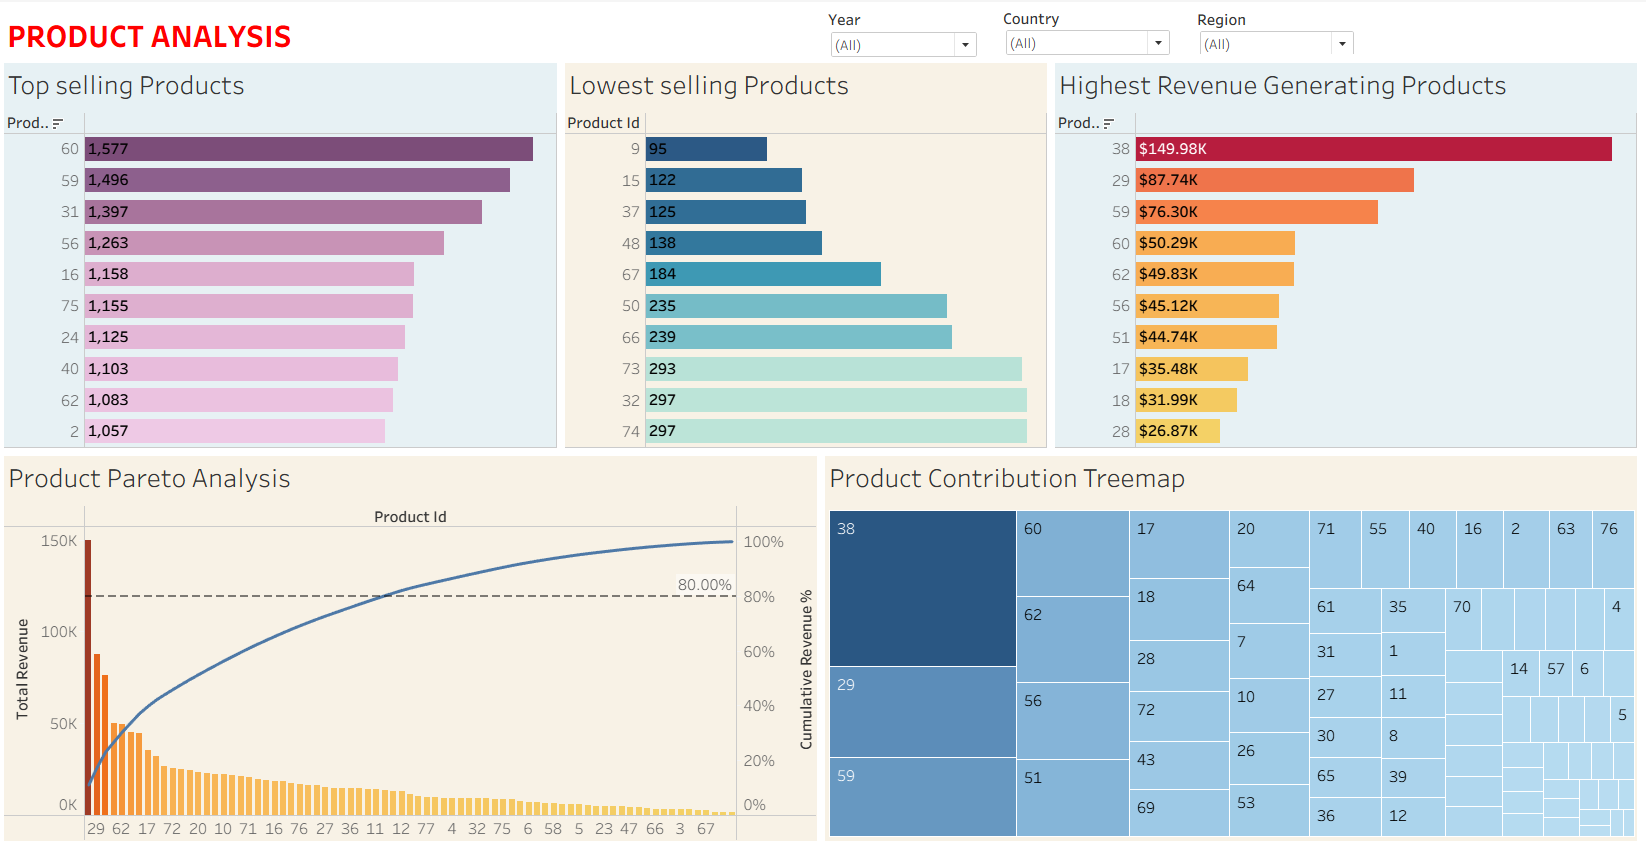

This screenshot's page, from the dashboard's own definition file:
{"tool":"tableau","page":{"name":"Product Analysis","canvas":[1000,1000],"units":"permille","ordinal":3},"visuals":[{"type":"filter","title":"Top selling Products","param":"[federated.0fuxvor0l2khf1164kcrc0bxxkrn].[none:ship_country:nk]","box":[610.1,7,102.6,56.4]},{"type":"filter","title":"Top selling Products","param":"[federated.0fuxvor0l2khf1164kcrc0bxxkrn].[yr:order_date:ok]","box":[504.5,8.2,91.7,57.6]},{"type":"filter","title":"Top selling Products","param":"[federated.0fuxvor0l2khf1164kcrc0bxxkrn].[none:ship_region:nk]","box":[727.2,8.2,96.6,52.9]},{"type":"title","box":[4.8,9.4,990.3,57.6]},{"type":"worksheet","title":"Top selling Products","mark":"Bar","rows":["product_id"],"cols":["quantity","quantity"],"box":[4.8,67,338.5,461.8]},{"type":"worksheet","title":"Lowest selling Products ","mark":"Bar","rows":["product_id"],"cols":["quantity","quantity"],"box":[343.4,67,295.7,461.8]},{"type":"worksheet","title":"Highest Revenue Generating Products ","mark":"Bar","rows":["product_id"],"cols":["vtsum","vtsum"],"box":[639.1,67,356.1,461.8]},{"type":"worksheet","title":"Product Pareto Analysis","mark":"Automatic","rows":["vtsum","Calculation_0175675493416960"],"cols":["product_id"],"box":[4.8,528.8,495.2,461.8]},{"type":"worksheet","title":"Product Contribution Treemap","mark":"Automatic","box":[500,528.8,495.2,461.8]}]}

Visuals, with their boxes on the dashboard's canvas, which has no fixed pixel size, in thousandths of its width and height (x1, y1, x2, y2). These are canvas units, not pixel positions in the 1646x850 screenshot, which may show the page scaled, cropped or inside an application window:
"Top selling Products" filter: rect(610, 7, 713, 63)
"Top selling Products" filter: rect(504, 8, 596, 66)
"Top selling Products" filter: rect(727, 8, 824, 61)
title: rect(5, 9, 995, 67)
"Top selling Products" worksheet (Bar marks): rect(5, 67, 343, 529)
"Lowest selling Products " worksheet (Bar marks): rect(343, 67, 639, 529)
"Highest Revenue Generating Products " worksheet (Bar marks): rect(639, 67, 995, 529)
"Product Pareto Analysis" worksheet: rect(5, 529, 500, 991)
"Product Contribution Treemap" worksheet: rect(500, 529, 995, 991)
